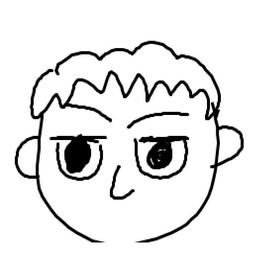ear: (12, 128, 41, 182), (213, 123, 246, 167)
eye: (129, 132, 195, 178), (51, 135, 106, 183)
eyebrow: (126, 106, 194, 130)
frowning_eyebrow: (65, 104, 113, 125)
nose: (108, 166, 135, 203)
